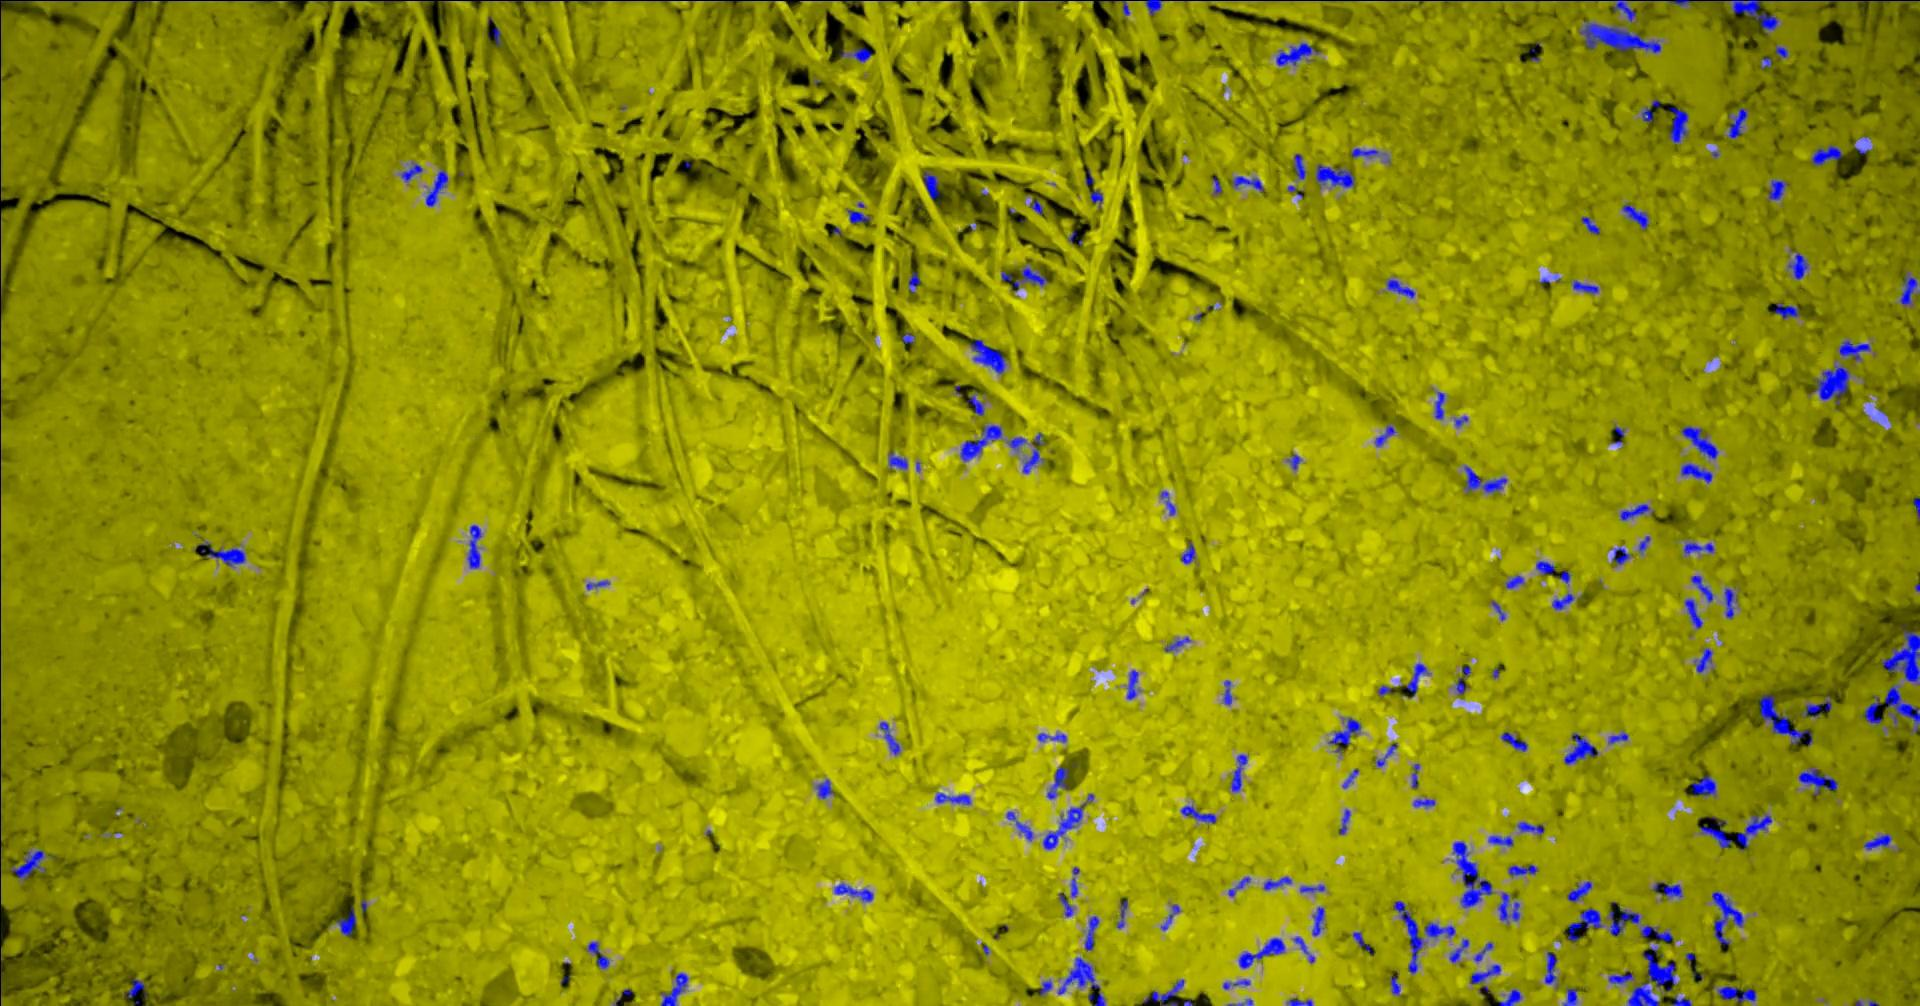ant: (1759, 694, 1812, 746), (1627, 948, 1675, 1005), (1451, 841, 1492, 907), (1392, 901, 1423, 973), (1057, 956, 1103, 1005), (1881, 625, 1919, 681), (1043, 801, 1086, 848), (1710, 890, 1743, 945), (1884, 683, 1919, 733), (1730, 0, 1777, 36), (960, 424, 1001, 461), (1812, 365, 1849, 404), (1238, 937, 1284, 968), (1736, 814, 1771, 850), (1680, 426, 1718, 459), (969, 339, 1004, 373), (1001, 265, 1048, 291), (1327, 716, 1360, 752), (1567, 907, 1603, 940), (1464, 465, 1506, 493), (199, 541, 245, 567), (1563, 732, 1597, 763), (1142, 979, 1183, 1005), (1798, 768, 1837, 795), (1276, 42, 1319, 65), (11, 850, 44, 879), (1699, 819, 1731, 848), (1316, 163, 1354, 187), (1608, 907, 1639, 935), (660, 972, 687, 1005), (1404, 662, 1429, 697), (1470, 964, 1500, 993), (1022, 432, 1043, 473), (425, 169, 447, 206), (1006, 810, 1032, 840), (834, 882, 872, 901), (1717, 986, 1755, 1005), (1669, 105, 1688, 142), (1046, 766, 1068, 798), (1497, 892, 1519, 923), (1810, 145, 1843, 165), (1898, 272, 1919, 305), (1837, 339, 1870, 359), (879, 721, 899, 754), (1801, 695, 1831, 716), (1727, 107, 1747, 138), (1622, 205, 1648, 229), (1180, 805, 1215, 823), (587, 941, 610, 968), (1230, 754, 1247, 791), (1680, 464, 1712, 483), (467, 525, 481, 568), (335, 906, 356, 935), (1291, 936, 1314, 962), (1690, 575, 1712, 602), (1787, 251, 1807, 279), (1500, 730, 1528, 751), (1619, 503, 1653, 520), (1641, 923, 1672, 941), (1862, 695, 1881, 724), (1374, 742, 1397, 766), (1611, 0, 1636, 22), (1385, 279, 1415, 297), (1684, 598, 1702, 627), (1230, 175, 1263, 191), (1652, 882, 1683, 898), (847, 202, 870, 224), (1691, 775, 1716, 795), (1567, 882, 1591, 902), (1084, 916, 1098, 950), (1374, 424, 1396, 446), (1098, 0, 1129, 15), (1423, 922, 1454, 937), (1448, 939, 1468, 962), (923, 171, 940, 199), (1694, 647, 1712, 672), (1161, 904, 1178, 930), (1544, 951, 1557, 987), (1455, 666, 1470, 695), (839, 47, 871, 61), (124, 977, 145, 998), (1227, 876, 1250, 895), (1352, 931, 1371, 954), (1310, 906, 1324, 935), (935, 793, 970, 804), (1516, 821, 1544, 835), (1863, 835, 1891, 848), (1768, 179, 1787, 199), (1164, 636, 1190, 652), (1498, 988, 1521, 1005), (1773, 304, 1799, 318), (1667, 0, 1724, 6), (1473, 942, 1492, 962), (401, 163, 422, 180), (1572, 279, 1597, 293), (1263, 876, 1291, 889), (1724, 588, 1736, 619), (1550, 593, 1573, 608), (1293, 152, 1305, 179), (1580, 216, 1599, 234), (888, 451, 907, 469), (1058, 892, 1072, 916), (1116, 899, 1128, 929), (1180, 541, 1195, 563), (1608, 970, 1633, 983), (1161, 492, 1175, 514), (1509, 864, 1537, 875), (1222, 978, 1250, 989), (1611, 547, 1630, 564), (817, 779, 833, 798), (968, 395, 983, 415), (1683, 542, 1713, 553), (1126, 669, 1137, 699), (1535, 560, 1554, 575), (1342, 768, 1357, 788), (1487, 835, 1512, 846), (1350, 147, 1378, 158), (1434, 391, 1444, 419), (1006, 436, 1026, 450), (1037, 732, 1065, 742), (1070, 866, 1079, 895), (488, 27, 500, 47), (1338, 809, 1349, 835), (1562, 988, 1577, 1005), (908, 271, 919, 292), (1090, 189, 1102, 208), (1145, 0, 1161, 15), (1389, 972, 1399, 995), (1505, 575, 1523, 588), (1670, 995, 1691, 1005), (1608, 732, 1627, 743), (585, 580, 610, 589), (1638, 535, 1650, 553), (1029, 199, 1043, 213), (1288, 453, 1300, 469), (1299, 884, 1324, 892), (1412, 798, 1434, 807), (1223, 680, 1230, 704), (1411, 763, 1418, 788), (1211, 177, 1222, 194), (1039, 981, 1051, 995), (1641, 107, 1652, 122), (1288, 998, 1312, 1005), (1775, 44, 1787, 57), (1827, 0, 1919, 1)
